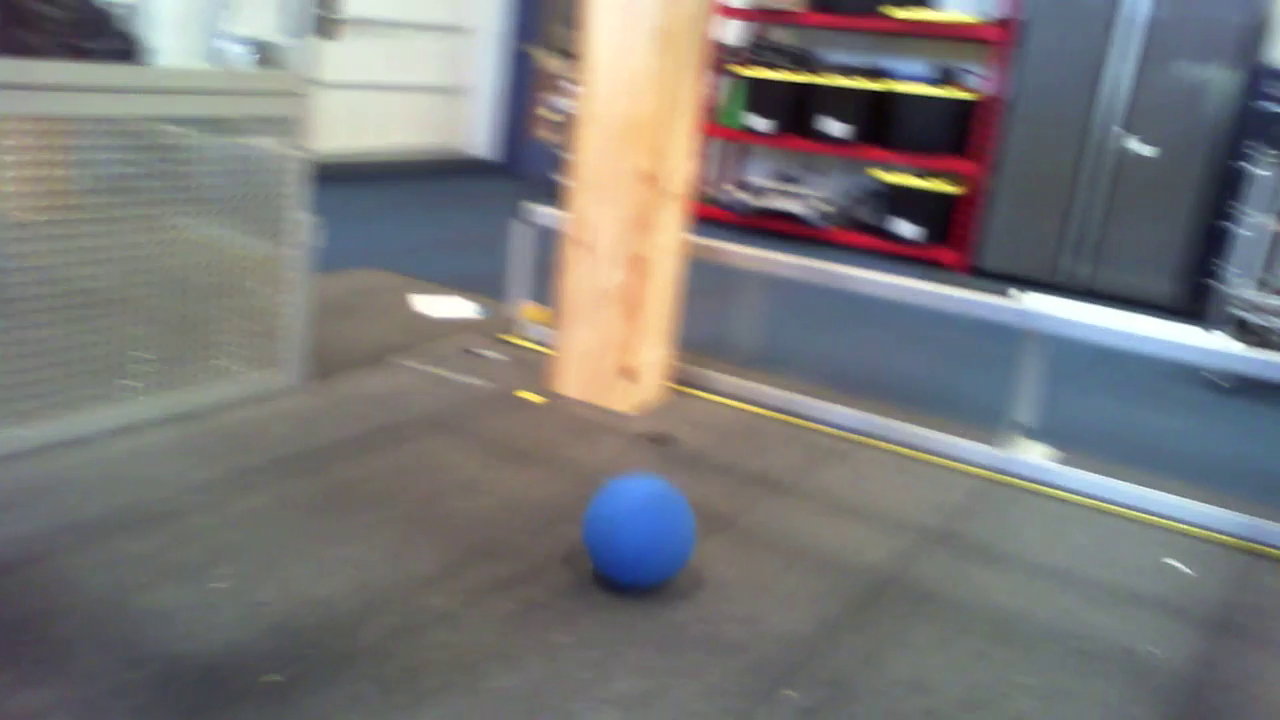blue_cargo: (585, 470, 710, 581)
